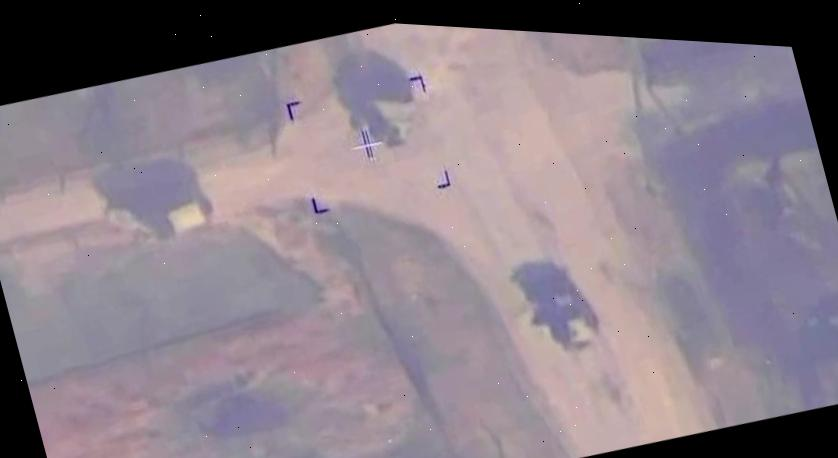armored_car: (97, 164, 217, 256), (340, 56, 430, 160), (526, 267, 602, 360)
